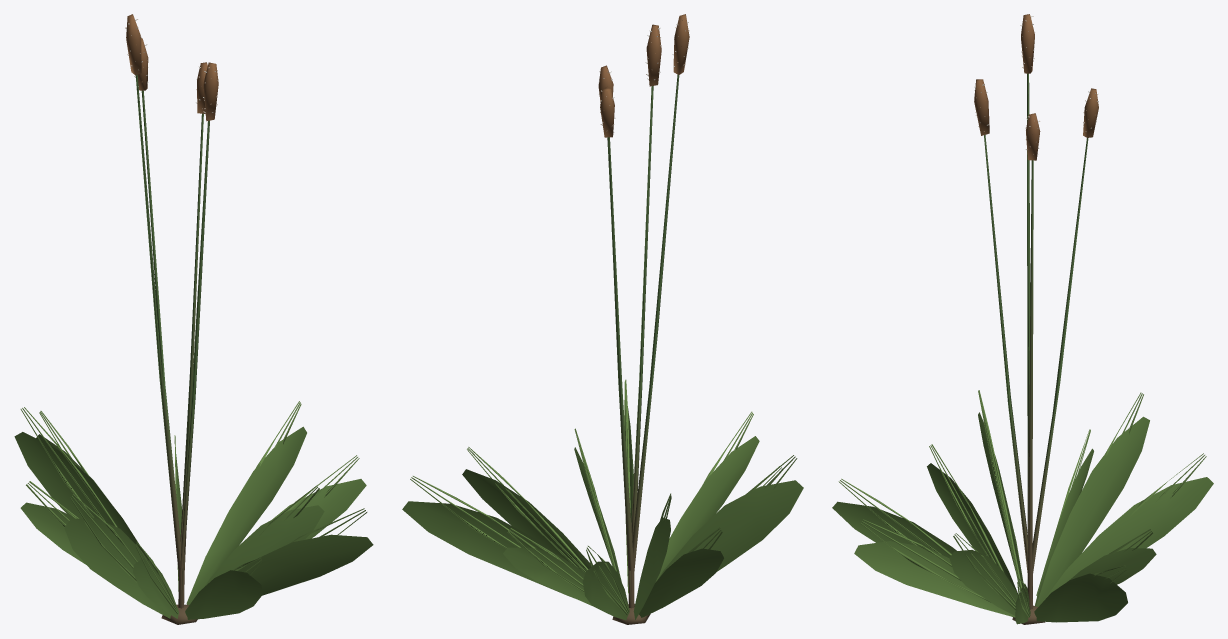
The model's file is RibwortPlantain_lod1.glb.
3 renders of one model, left to right at view 1: azimuth 30°, elevation 25°; view 2: azimuth 150°, elevation 25°; view 3: azimuth 270°, elevation 25°, orthographic. The views are drawn at different scales.
Visible parts, largest first — view 1: Plant_LOD1; view 2: Plant_LOD1; view 3: Plant_LOD1.
Part boxes in pixels (x1=…): Plant_LOD1: x1=14, y1=14, x2=373, y2=624; Plant_LOD1: x1=402, y1=14, x2=803, y2=624; Plant_LOD1: x1=832, y1=14, x2=1213, y2=624.
Bounding box in the file's own units: 0.2692 × 0.4893 × 0.2924.
